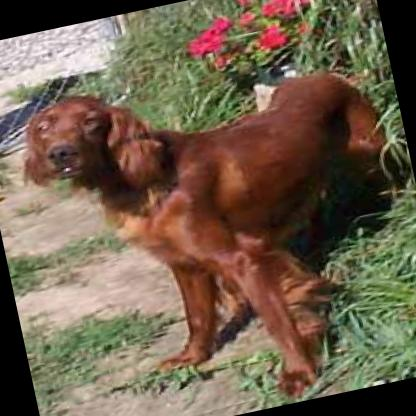Irish_setter: (5, 30, 416, 416)
